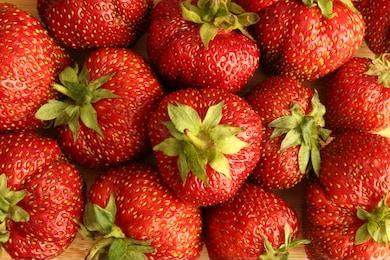Fresa: (142, 82, 270, 214), (49, 41, 176, 171), (297, 124, 390, 260), (87, 159, 205, 260), (1, 126, 87, 260), (143, 1, 269, 92), (205, 178, 299, 260), (317, 53, 390, 136)
